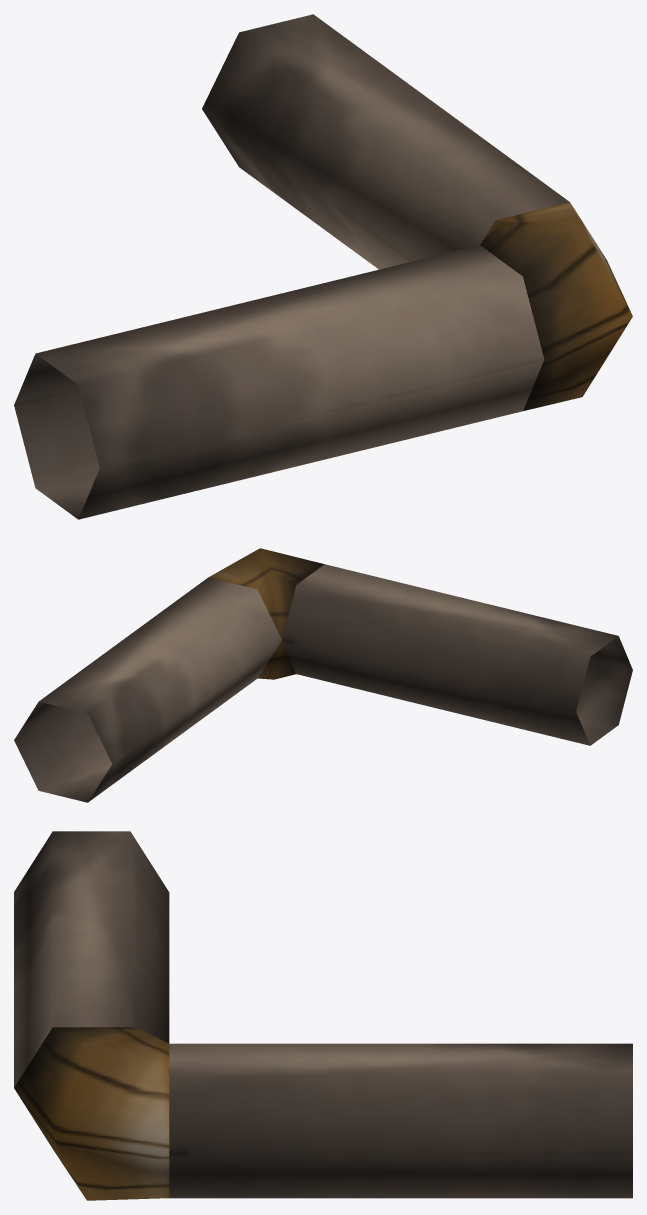
File: PIPE_LINE_CORNER.fbx
3 views of the same model, one above another, from view 1: azimuth 30°, elevation 25°; view 2: azimuth 150°, elevation 25°; view 3: azimuth 270°, elevation 25° (orthographic). The views are drawn at different scales.
Parts seen in each view (by area): view 1: polySurface14; view 2: polySurface14; view 3: polySurface14.
Part boxes in pixels (x1,y1,x2,y2): polySurface14: (14, 14, 632, 519); polySurface14: (14, 548, 632, 802); polySurface14: (14, 831, 632, 1200).
Size of the model in its own units: 6.3 by 1.75 by 6.3.
